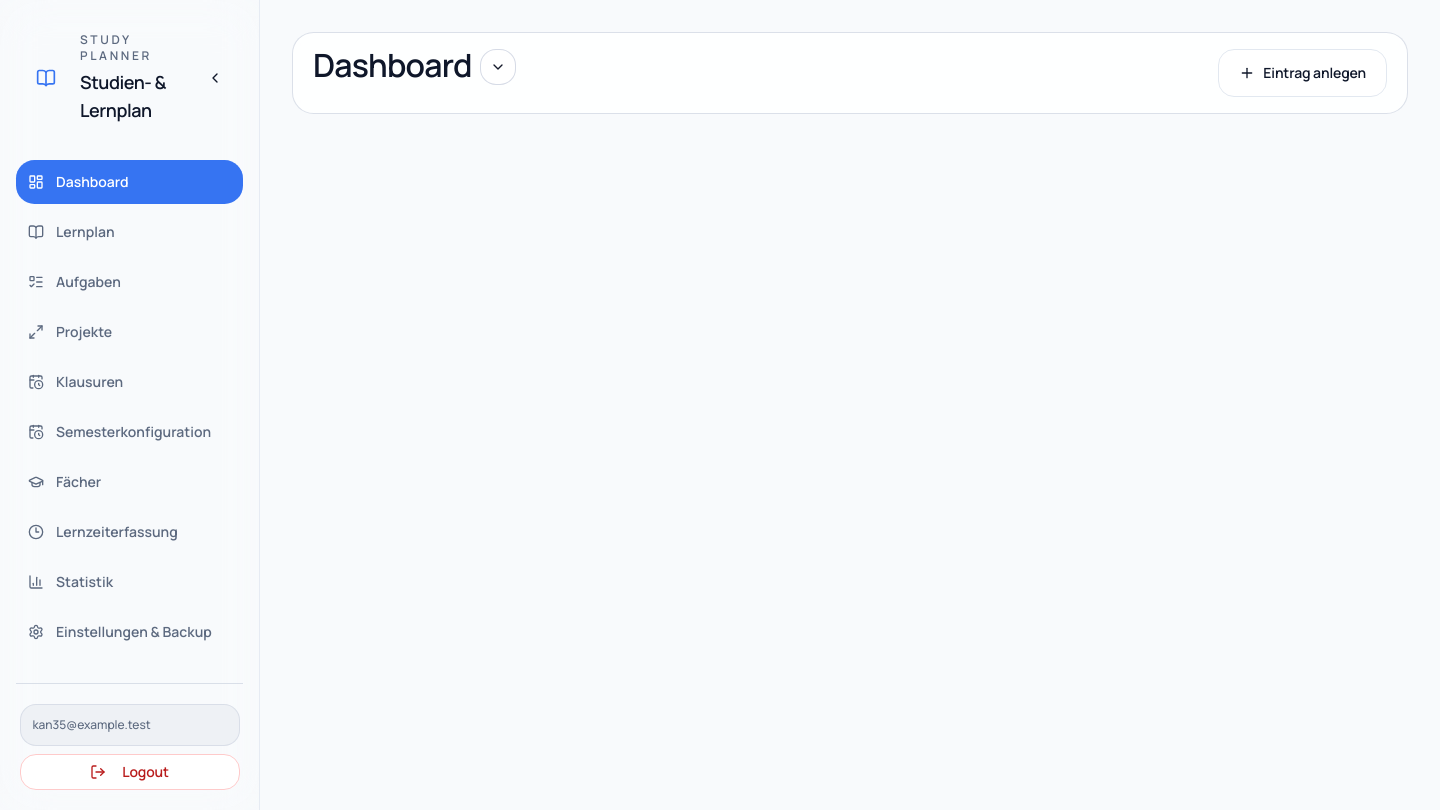
Test: Semesterwechsel › wechselt A nach B und zurück und persistiert erst nach erfolgreicher Vorprüfung
Click the button "Semesterkonfiguration" at (130, 432), box [16, 410, 243, 454]
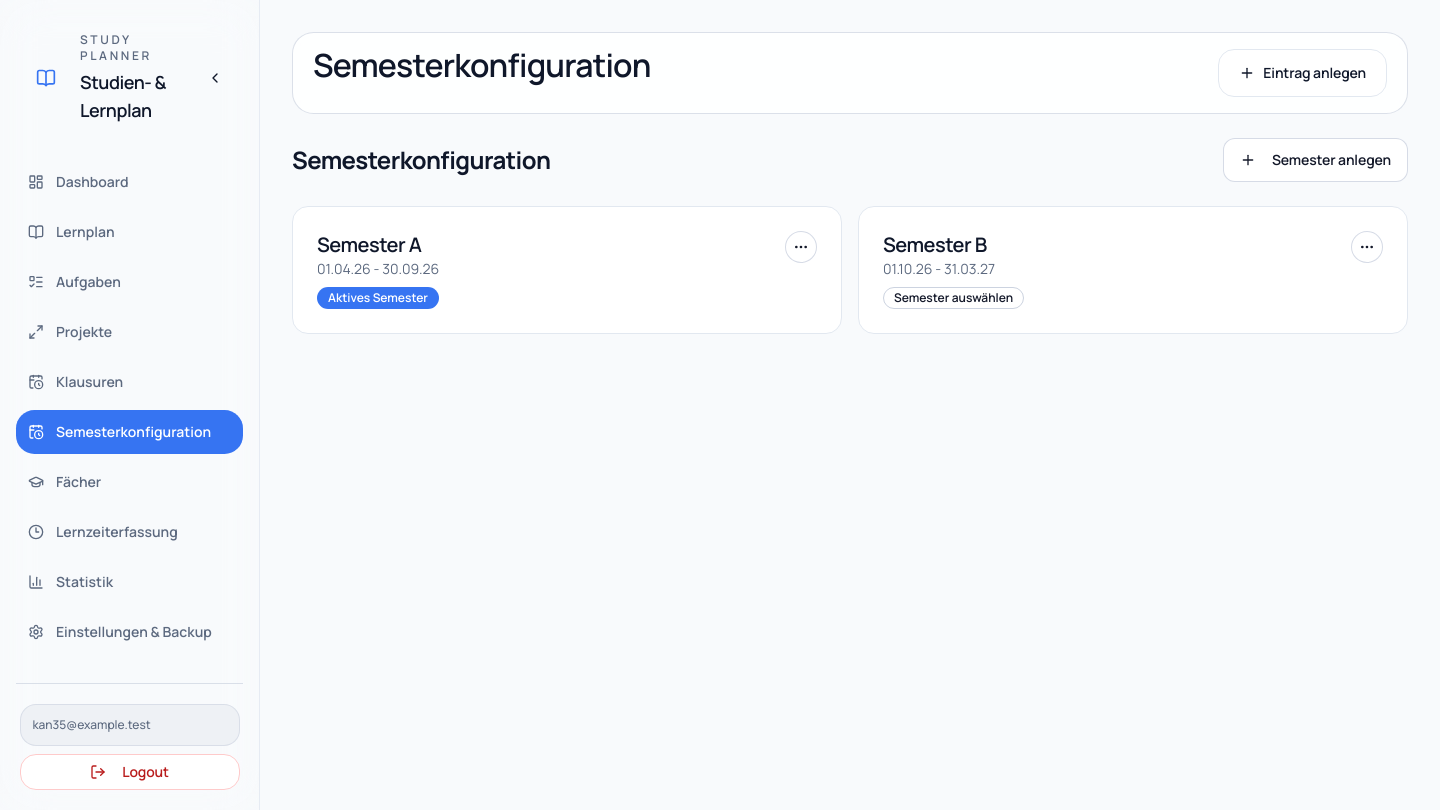
Click the button "Semester B 01.10.26 - 31.03.27 Semester auswählen" at (954, 270), box [883, 231, 1024, 309]
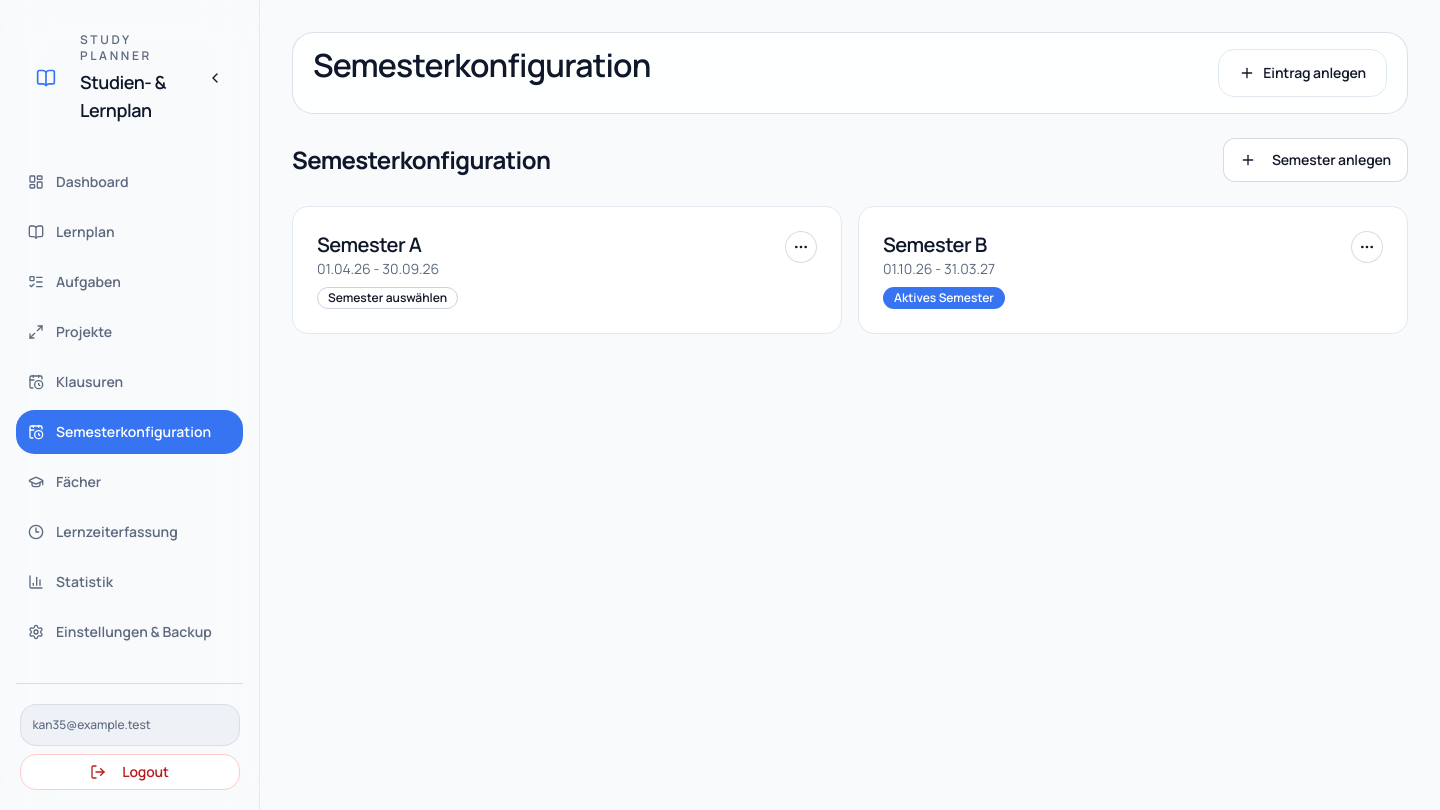
expect the text "Aktives Semester" is shown: met, box [883, 287, 1005, 309]
Click the button "Semester A 01.04.26 - 30.09.26 Semester auswählen" at (388, 270), box [317, 231, 458, 309]
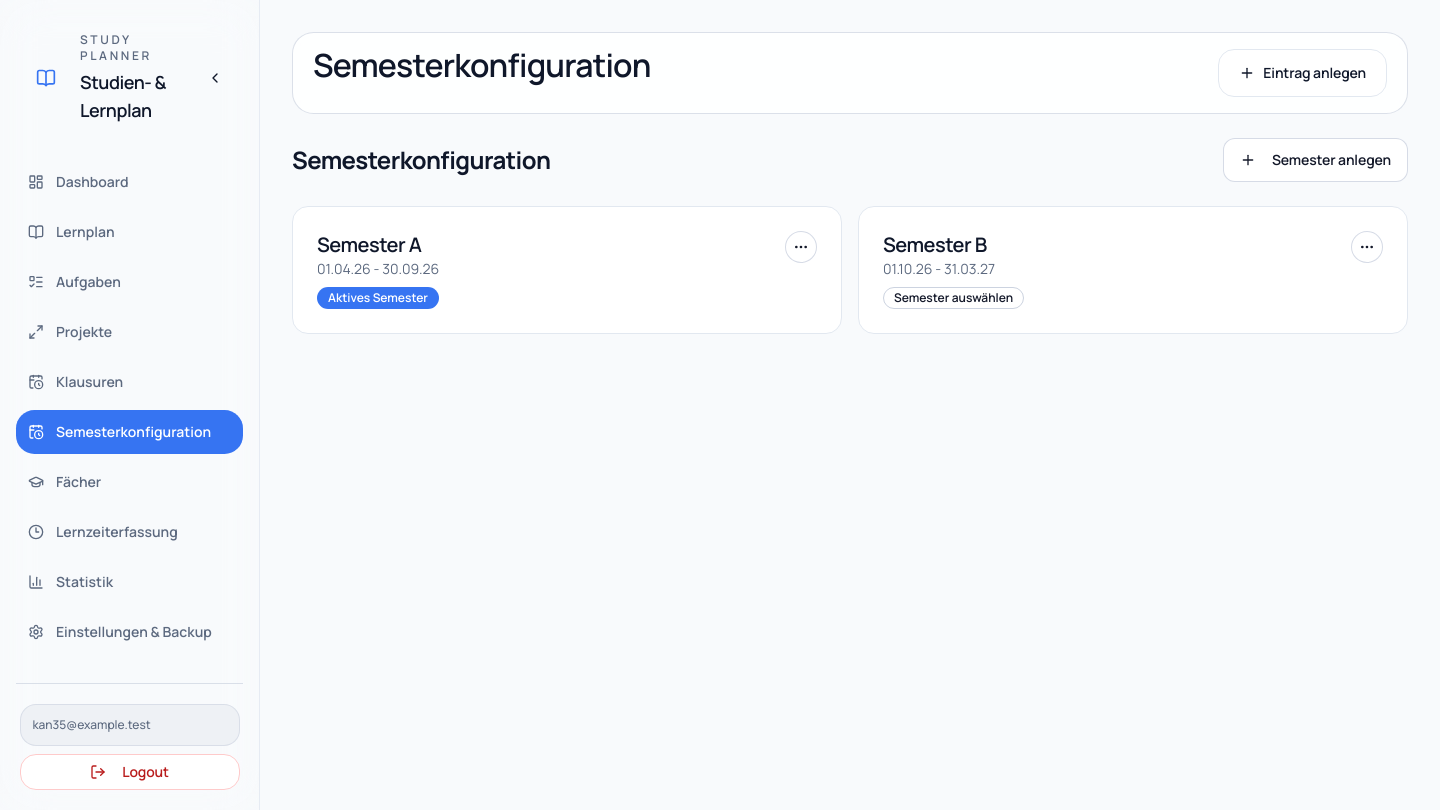
expect the text "Aktives Semester" is shown: met, box [317, 287, 439, 309]
